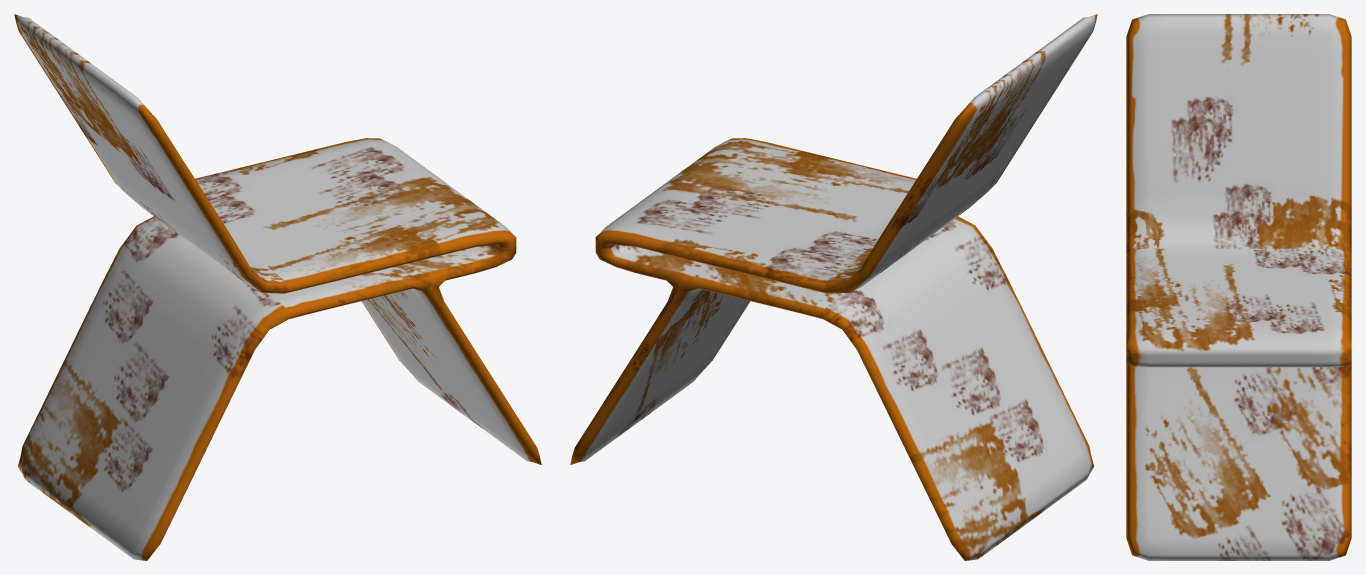
Rendered from Chair.FBX.
3 renders of one model, left to right at view 1: azimuth 30°, elevation 25°; view 2: azimuth 150°, elevation 25°; view 3: azimuth 270°, elevation 25°, orthographic. The views are drawn at different scales.
Visible parts, largest first — view 1: Box001; view 2: Box001; view 3: Box001.
Boxes of the visible parts, x1,y1,x2,y2 form: Box001: (14,14,541,560); Box001: (570,14,1097,560); Box001: (1126,14,1351,560).
Size of the model in its own units: 34.91 by 38.08 by 20.23.
